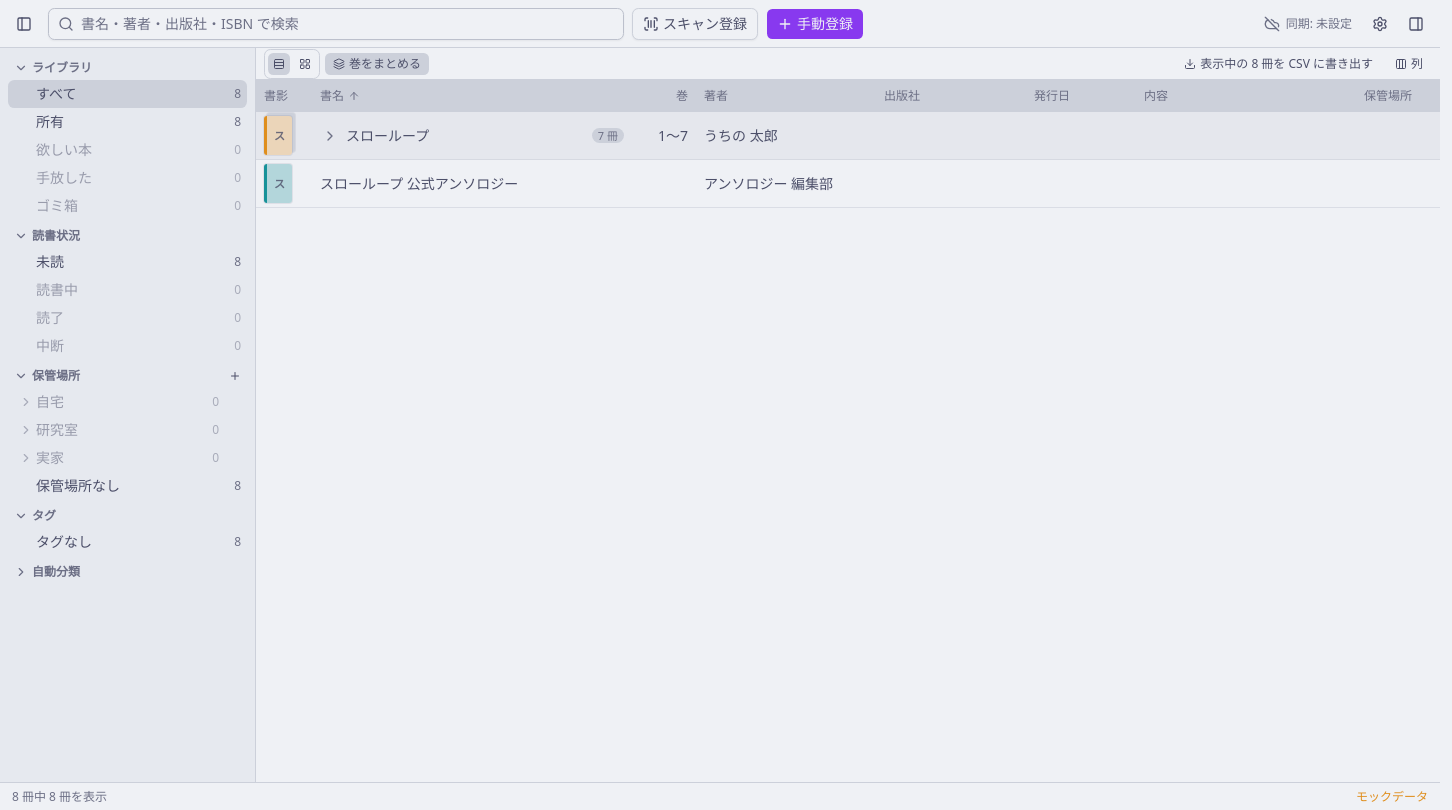
メイン画面: 作品の手動のまとめ・外し（AT-36・AT-37） › AT-36: 作品の行と別の本を選んで「1 つの作品にまとめる」と、1 つの作品（8 冊）になり、その行が選ばれる。あとから登録した巻（自動の 1 冊）は、その作品に入る
Expected: the text "7 冊" is shown, 592,128 -> 624,143
Expected: the row "ス スローループ 公式アンソロジー アンソロジー 編集部 未読 2026-10-17" is shown, 256,160 -> 1440,208
Click the row "ス スローループ 7 冊 1〜7 うちの 太郎 未読" at (848, 136), box 256,112 -> 1440,160
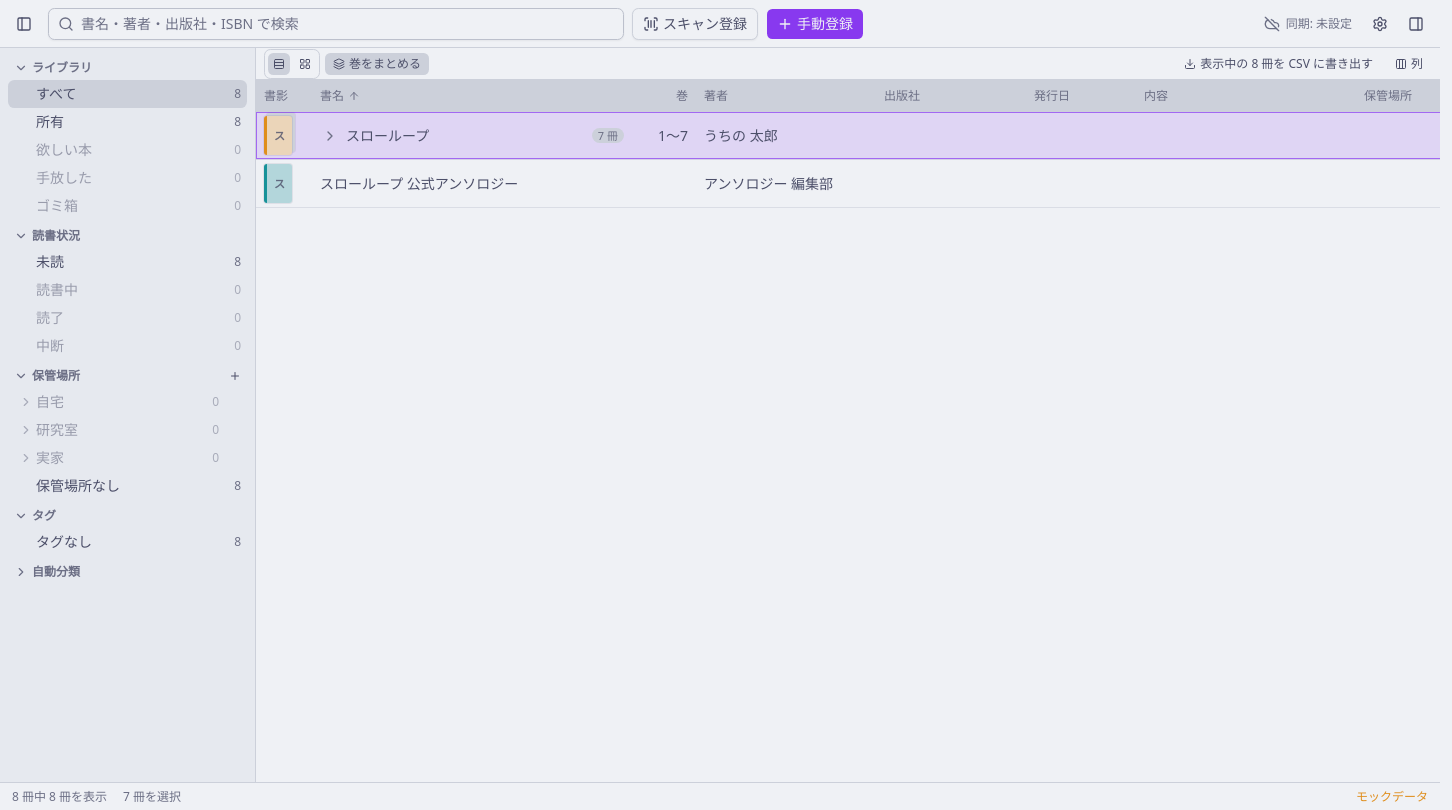
Click the row "ス スローループ 公式アンソロジー アンソロジー 編集部 未読 2026-10-17" at (848, 184), box 256,160 -> 1440,208
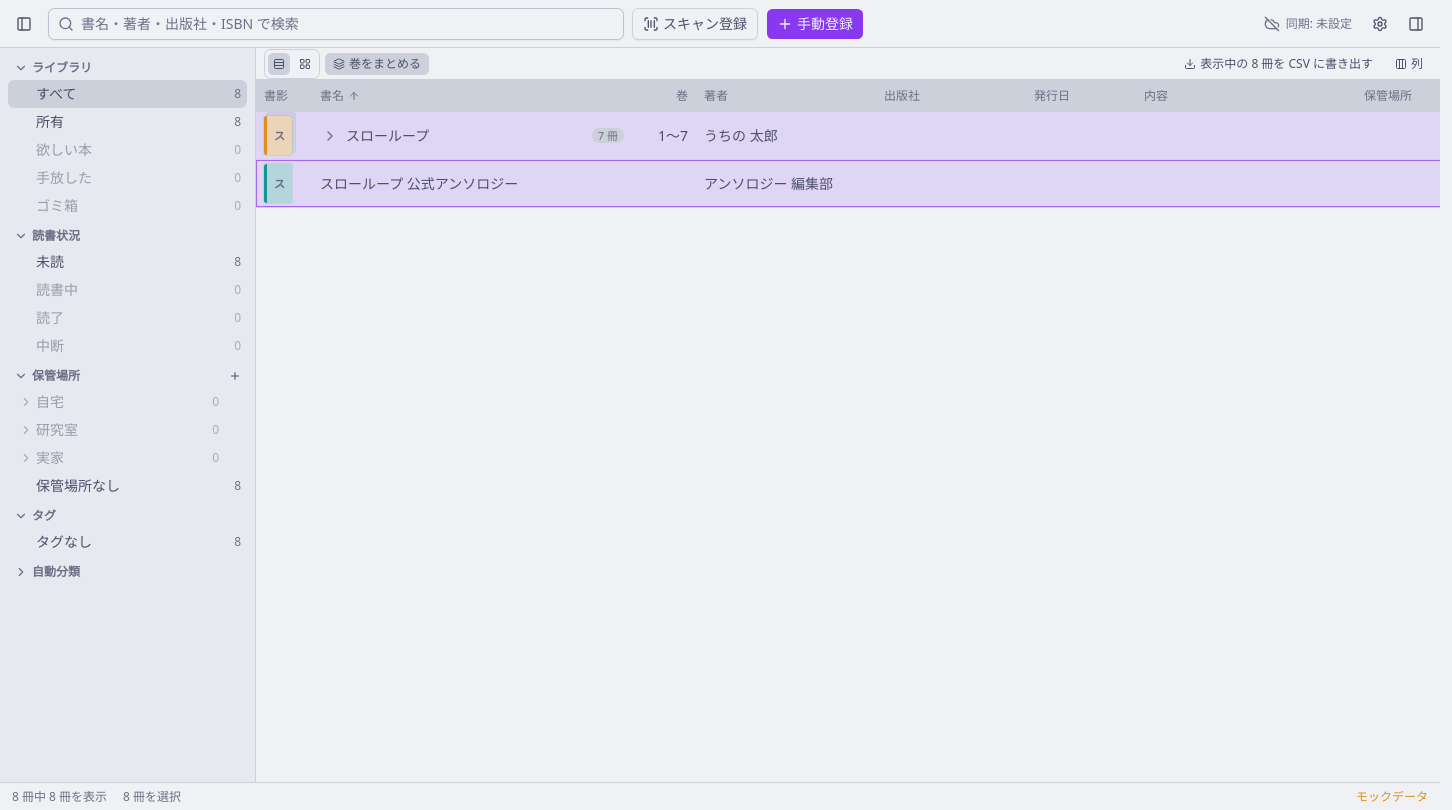
Right-click the row "ス スローループ 公式アンソロジー アンソロジー 編集部 未読 2026-10-17" at (848, 184), box 256,160 -> 1440,208
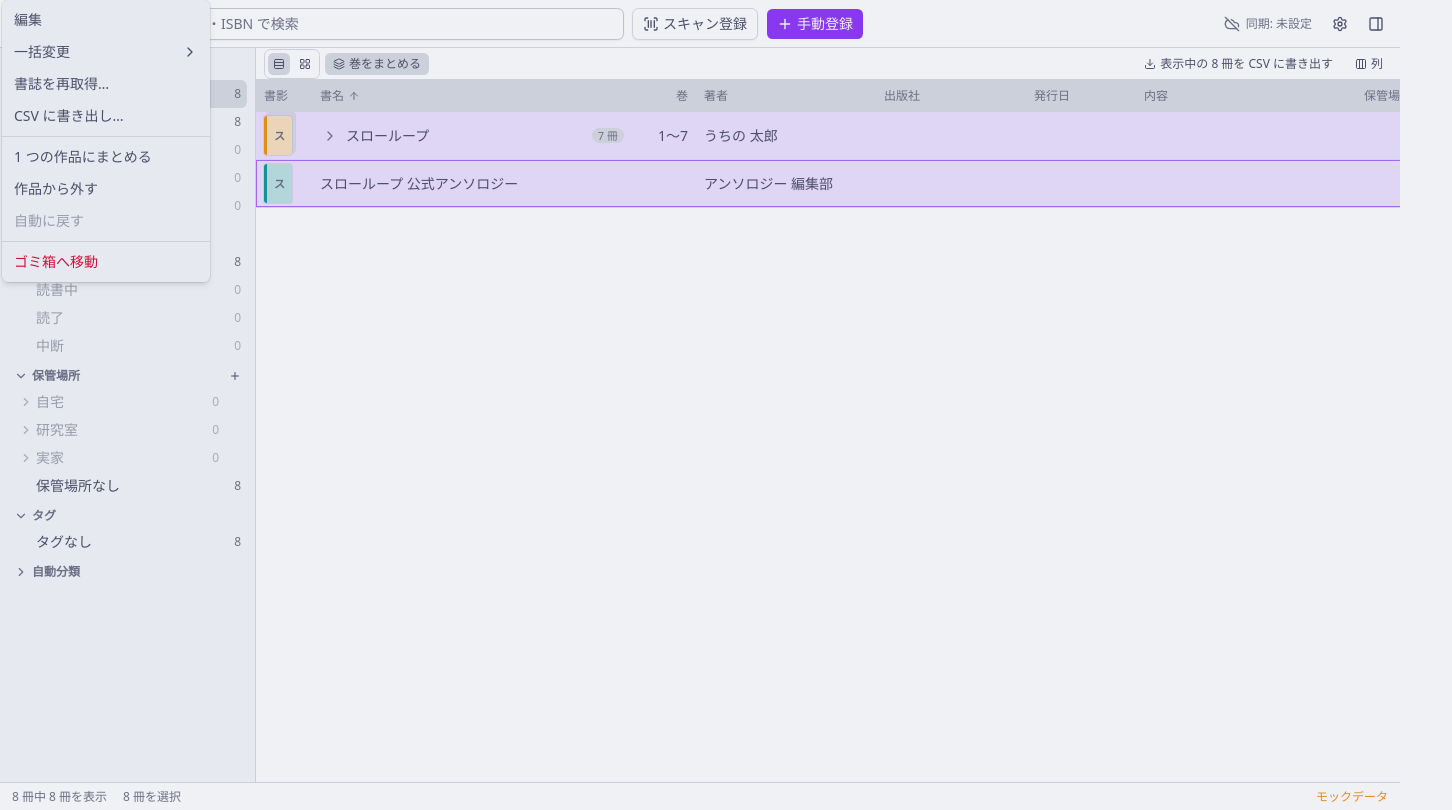
Click the menu item "1 つの作品にまとめる" at (83, 156), box 14,147 -> 152,166
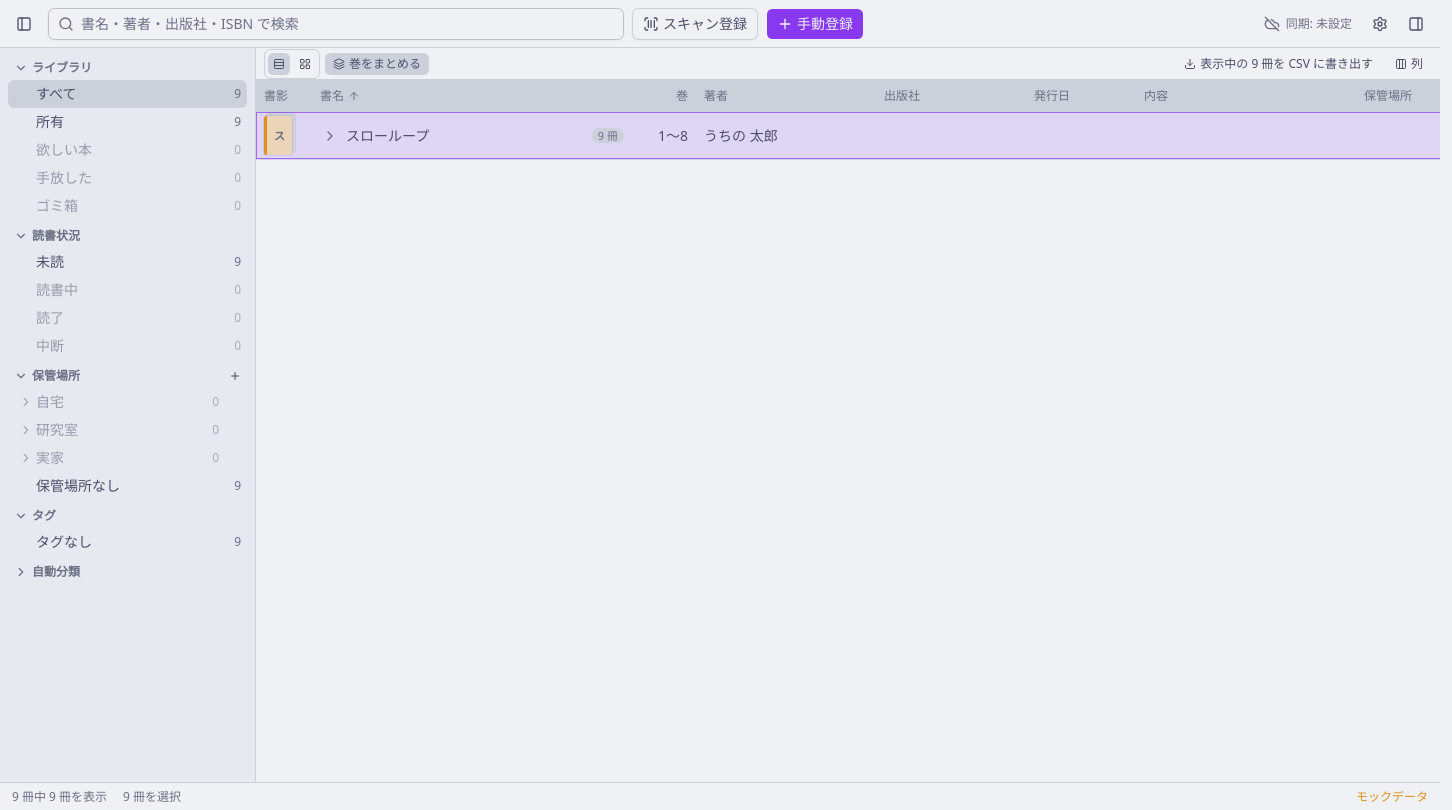
Expected: the text "9 冊" is shown, 592,128 -> 624,143
